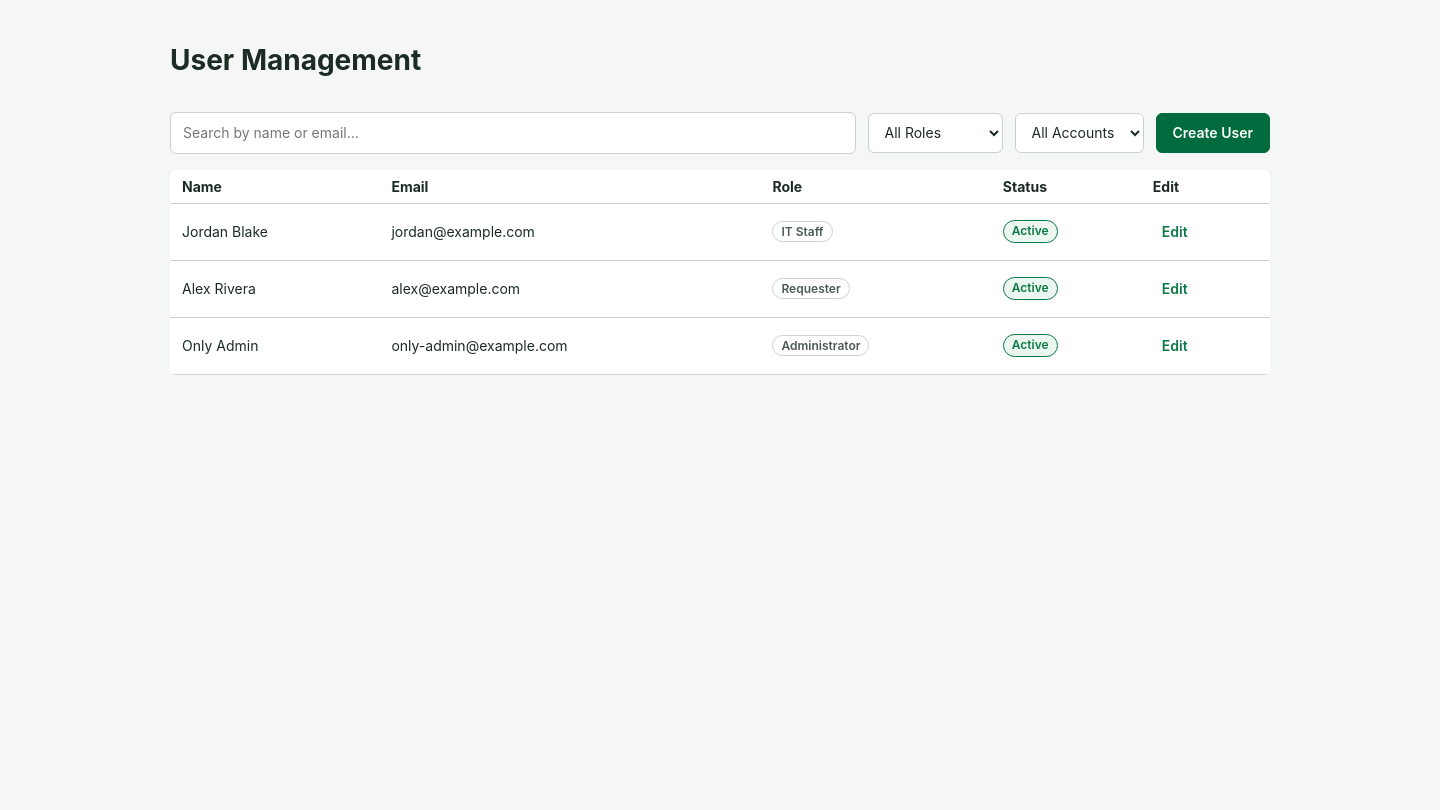
Test: UserManagement › "Set New Initial Password" opens a separate sub-panel, distinct from the edit form
What coordinates should you click on to do the following:
click the button "Edit" in the row of "Jordan Blake"
I would click on:
 (1175, 232)
Its box is [1153,212,1197,252].
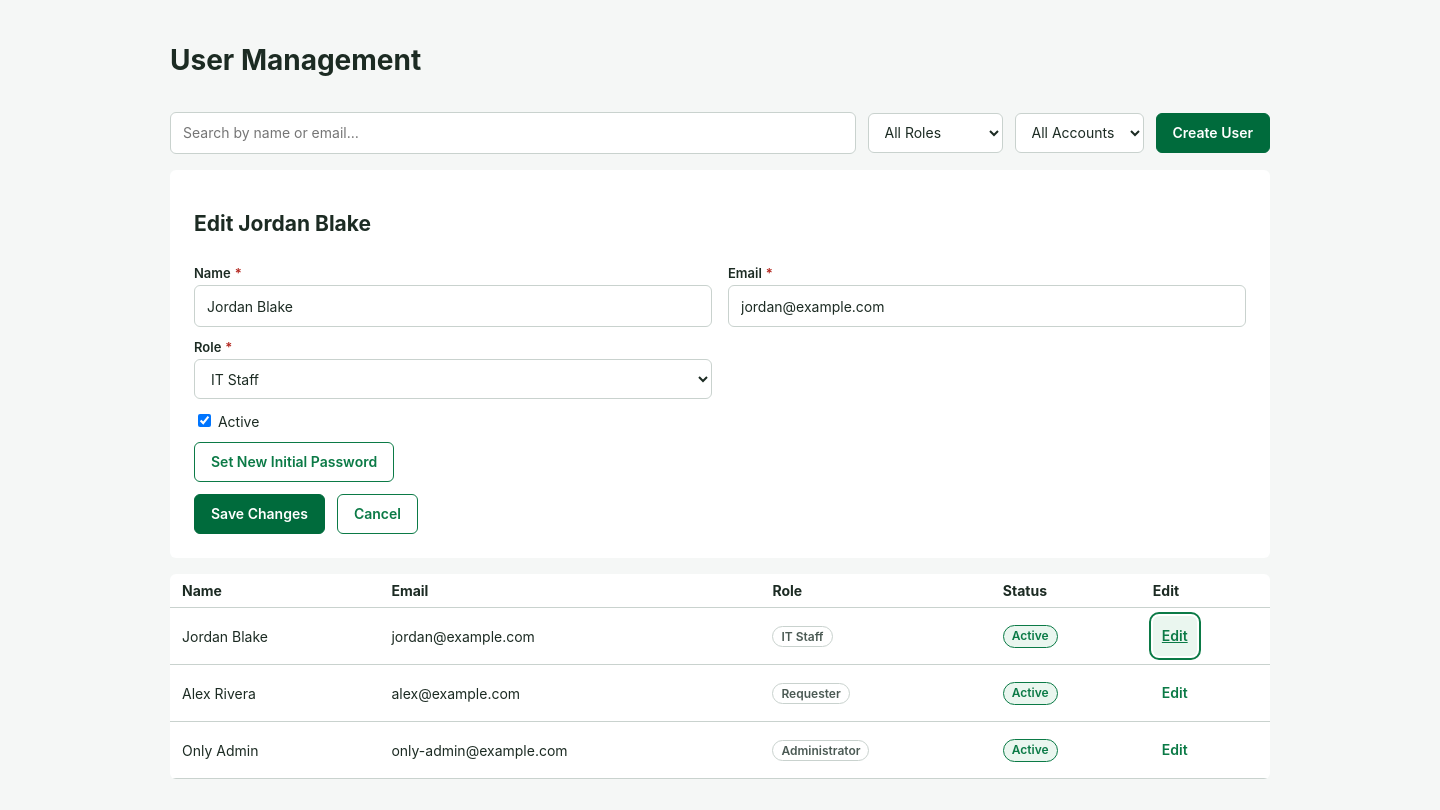
What coordinates should you click on to do the following:
click the button "Set New Initial Password"
I would click on:
 (294, 462)
Its box is [194,442,394,482].
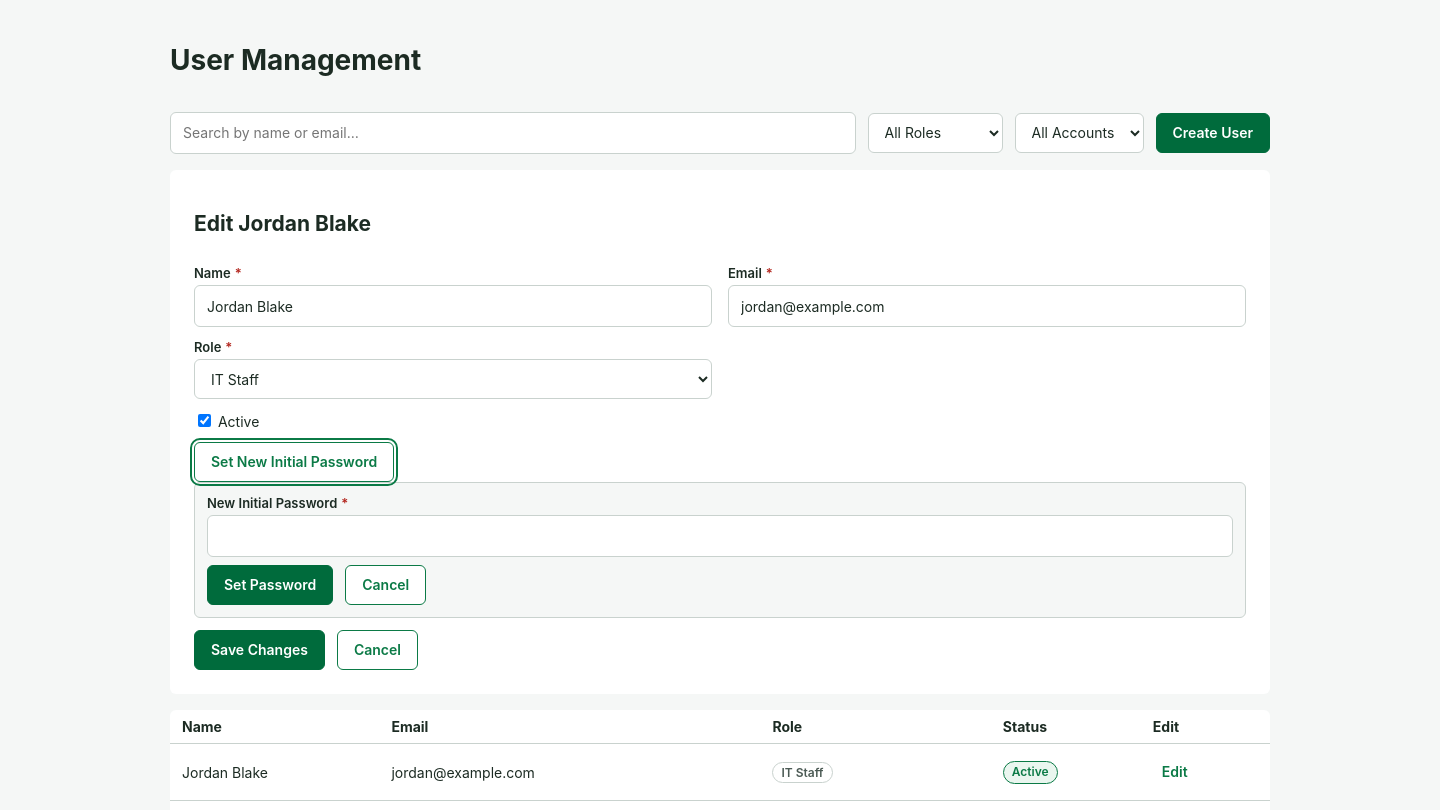
Expected: the password field labelled "New Initial Password*" is shown, [207,515,1233,557]
